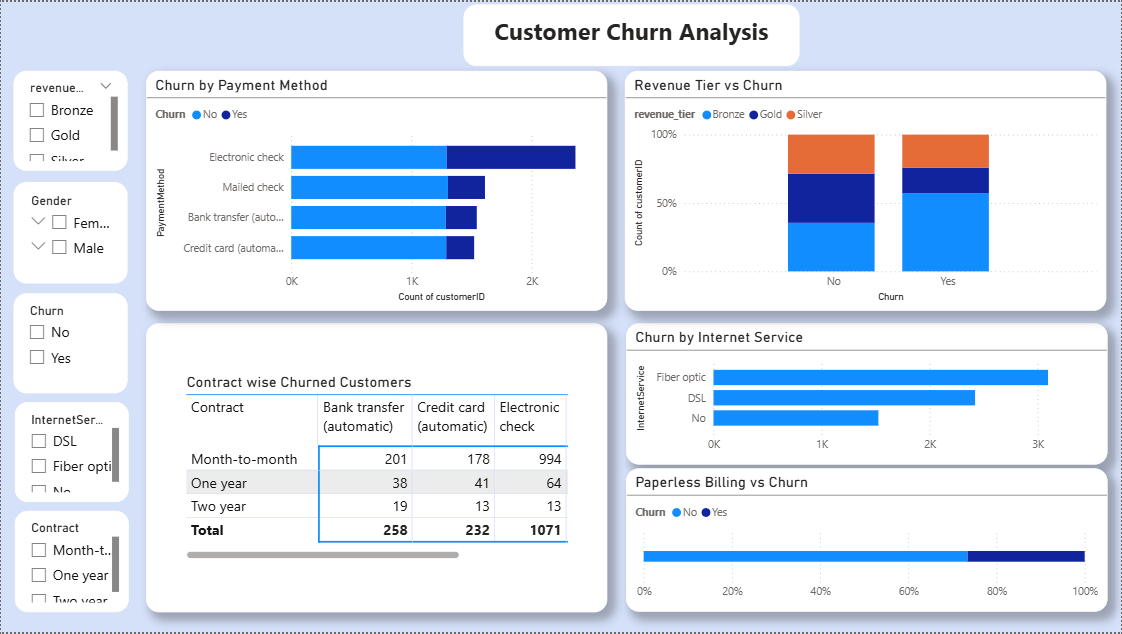

Layout of this report page (visuals, bound fields, positions):
{"tool":"powerbi","page":{"name":"Customer Churn Analysis","canvas":[1280,720],"ordinal":1},"visuals":[{"type":"shape","box":[165.7,367.1,527.1,330],"z":0},{"type":"barChart","title":"Churn by Payment Method","fields":{"Category":["upgraded_customer_retention.PaymentMethod"],"Series":["upgraded_customer_retention.Churn"],"Y":["CountNonNull(upgraded_customer_retention.customerID)"]},"box":[165.7,78.6,527.1,274.3],"z":1000},{"type":"barChart","title":"Churn by Internet Service","fields":{"Category":["upgraded_customer_retention.InternetService"],"Y":["CountNonNull(upgraded_customer_retention.Churn)"]},"box":[713.7,367.1,550,161.4],"z":2000},{"type":"hundredPercentStackedColumnChart","title":"Revenue Tier vs Churn","fields":{"Series":["upgraded_customer_retention.revenue_tier"],"Category":["upgraded_customer_retention.Churn"],"Y":["CountNonNull(upgraded_customer_retention.customerID)"]},"box":[712.9,78.6,550,274.3],"z":3000},{"type":"hundredPercentStackedBarChart","title":"Paperless Billing vs Churn","fields":{"Y":["CountNonNull(upgraded_customer_retention.PaperlessBilling)"],"Series":["upgraded_customer_retention.Churn"]},"box":[713.7,532.9,550,164.3],"z":4000},{"type":"pivotTable","title":"Contract wise Churned Customers","fields":{"Values":["upgraded_customer_retention.Churned Customers"],"Rows":["upgraded_customer_retention.Contract"],"Columns":["upgraded_customer_retention.PaymentMethod"]},"box":[207.1,424.3,445.7,217.1],"z":5000},{"type":"slicer","fields":{"Values":["upgraded_customer_retention.gender","upgraded_customer_retention.SeniorCitizen","upgraded_customer_retention.Partner","upgraded_customer_retention.Dependents"]},"box":[14.3,205.7,130,115.7],"z":6000},{"type":"slicer","fields":{"Values":["upgraded_customer_retention.Contract"]},"box":[15.7,581.4,130,115.7],"z":7000},{"type":"slicer","fields":{"Values":["upgraded_customer_retention.InternetService"]},"box":[15.7,457.1,130,114.3],"z":8000},{"type":"slicer","fields":{"Values":["upgraded_customer_retention.revenue_tier"]},"box":[14.3,78.6,130,114.3],"z":9000},{"type":"slicer","fields":{"Values":["upgraded_customer_retention.Churn"]},"box":[14.3,332.9,130,114.3],"z":10000},{"type":"textbox","box":[528.6,2.9,384.3,70],"z":10001}]}

Visuals, with their boxes in screenshot pixels (x1, y1, x2, y2), scaled from the page's 1280x720 canvas onto the 1122x634 screenshot:
shape: [145,323,607,614]
"Churn by Payment Method" barChart: [145,69,607,311]
"Churn by Internet Service" barChart: [626,323,1108,465]
"Revenue Tier vs Churn" hundredPercentStackedColumnChart: [625,69,1107,311]
"Paperless Billing vs Churn" hundredPercentStackedBarChart: [626,469,1108,614]
"Contract wise Churned Customers" pivotTable: [182,374,572,565]
slicer - upgraded_customer_retention.gender x upgraded_customer_retention.SeniorCitizen: [13,181,126,283]
slicer - upgraded_customer_retention.Contract: [14,512,128,614]
slicer - upgraded_customer_retention.InternetService: [14,403,128,503]
slicer - upgraded_customer_retention.revenue_tier: [13,69,126,170]
slicer - upgraded_customer_retention.Churn: [13,293,126,394]
textbox: [463,3,800,64]
